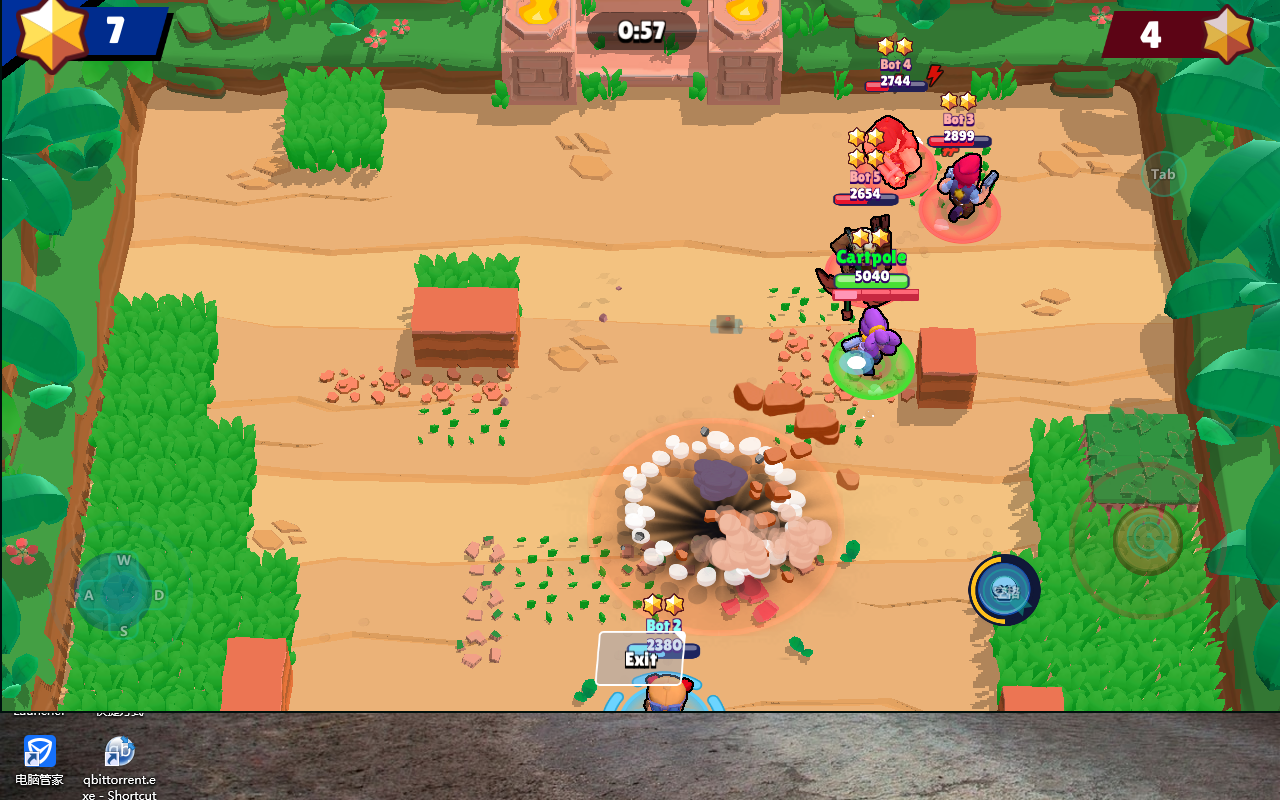current_player: (829, 332, 916, 400)
